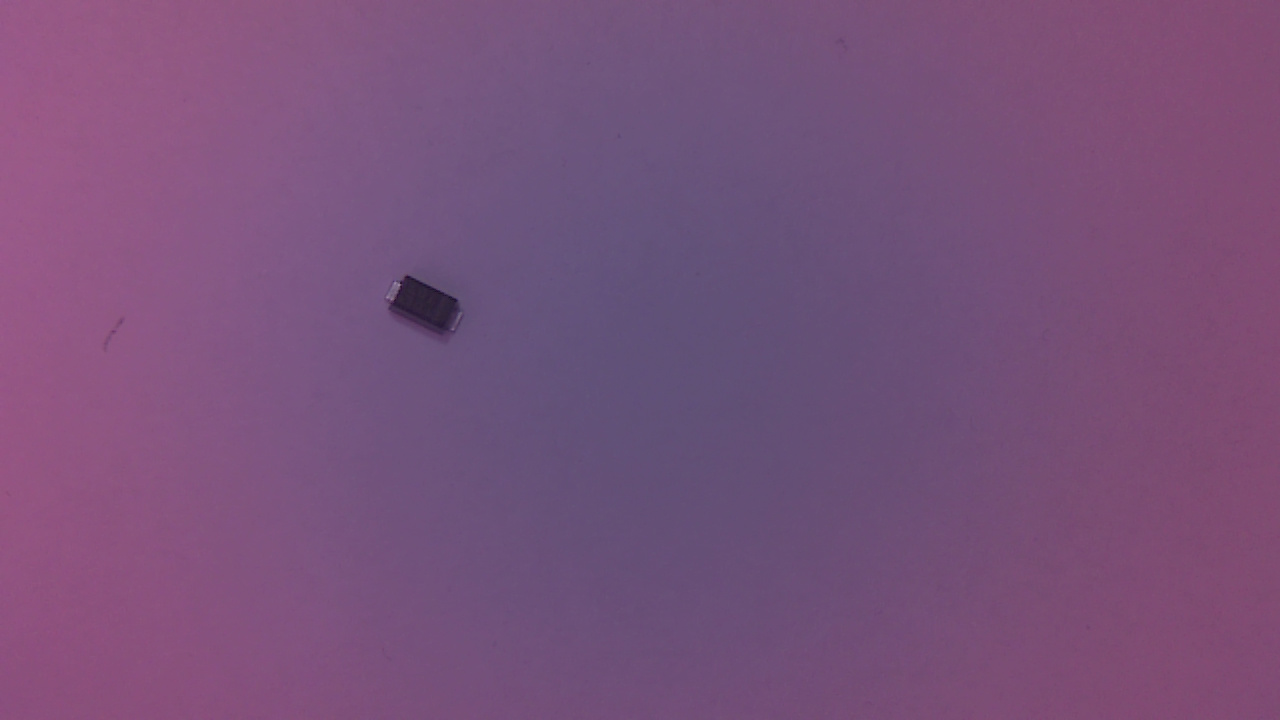Diode: (390, 278, 474, 341)
